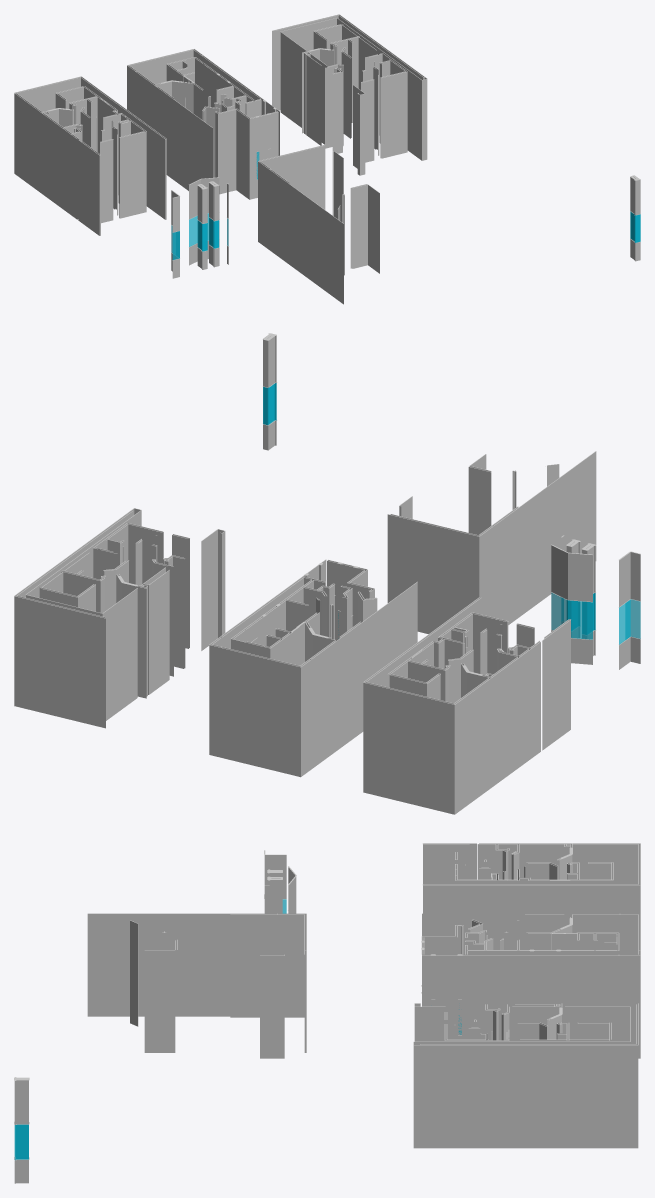
The model's file is 4b5cb836-c333-4985-bc65-f76db5231eef_no_roof.glb.
The picture shows the model from 3 angles, top to bottom: view 1: azimuth 30°, elevation 25°; view 2: azimuth 150°, elevation 25°; view 3: azimuth 270°, elevation 25°; orthographic projection. The views are drawn at different scales.
Parts seen in each view (by area): view 1: walls, windows; view 2: walls, windows; view 3: walls, windows.
Boxes of the visible parts, x1,y1,x2,y2 form: walls: (14,14,640,304); windows: (171,151,640,259); walls: (14,333,640,814); windows: (263,383,640,644); walls: (14,843,640,1183); windows: (14,899,461,1160).
Bounding box in the file's own units: 17.32 × 3.5 × 19.31.
